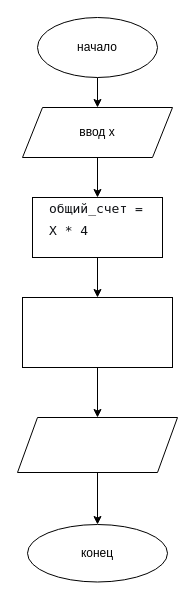
The diagram is 195 pixels wide and 600 high, and some of its shapes have lost their labels. The box of each missing label's shape, as (x1, y1, x2, y2) in pixels:
Вывод чаевых: (16, 416, 178, 472)
чаевые = общий_счет * 0.15: (22, 296, 172, 368)
